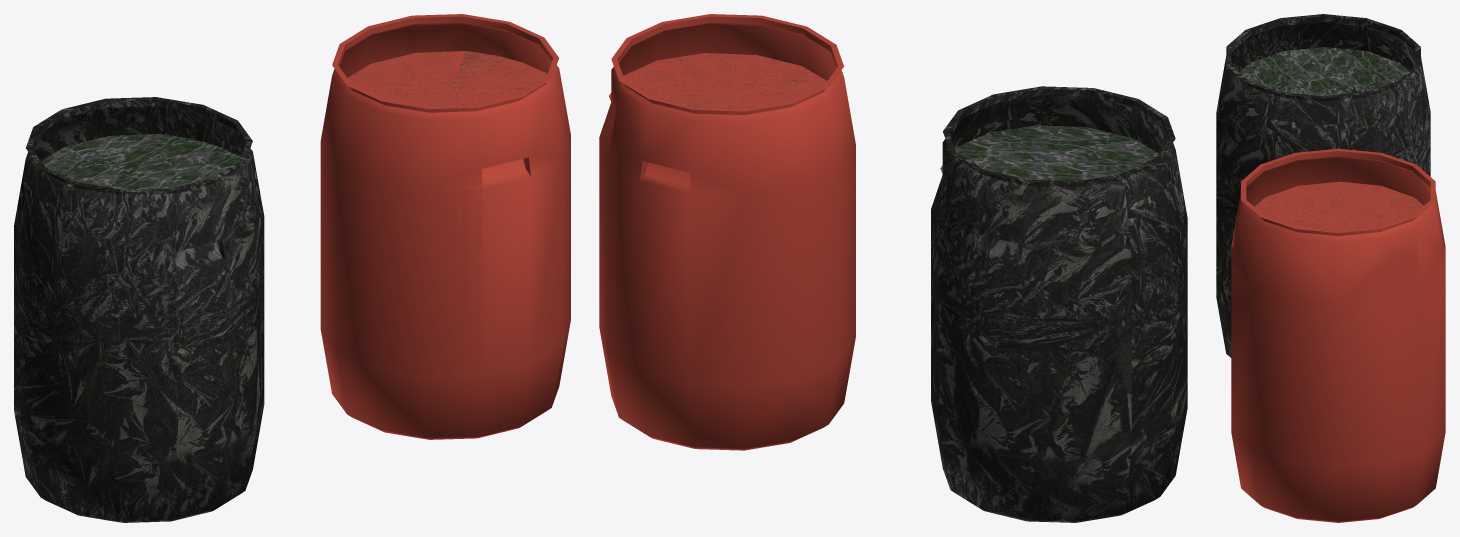
File: Drum.fbx
3 views of the same model, side by side, from view 1: azimuth 30°, elevation 25°; view 2: azimuth 150°, elevation 25°; view 3: azimuth 270°, elevation 25° (orthographic). The views are drawn at different scales.
Visible parts, largest first — view 1: Group2, Group1; view 2: Group1, Group2; view 3: Group2, Group1.
Boxes of the visible parts, x1=… form: Group2: x1=320, y1=14, x2=570, y2=439; Group1: x1=14, y1=97, x2=264, y2=522; Group1: x1=931, y1=86, x2=1187, y2=522; Group2: x1=599, y1=14, x2=855, y2=450; Group2: x1=1231, y1=148, x2=1445, y2=522; Group1: x1=1216, y1=14, x2=1430, y2=357.
Size of the model in its own units: 1715 by 1026 by 730.
